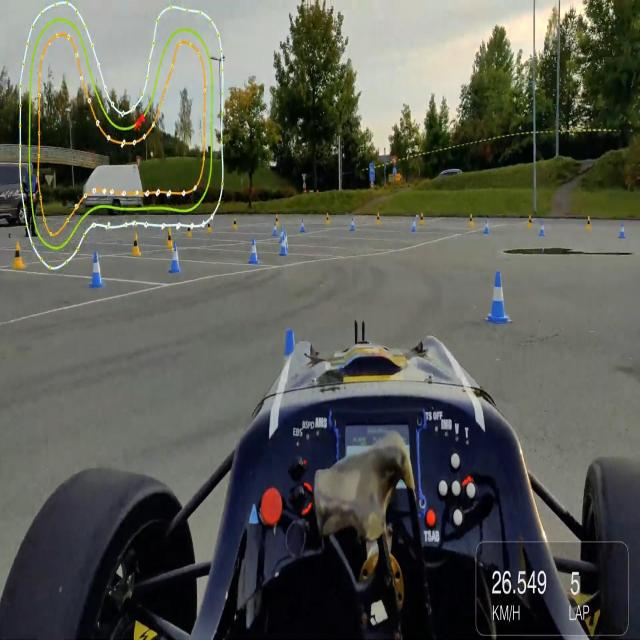blue_cone: (483, 267, 513, 325), (90, 251, 105, 290), (248, 235, 262, 266), (282, 326, 295, 359), (171, 242, 181, 273), (616, 220, 628, 240), (281, 235, 288, 258), (538, 218, 546, 238), (483, 218, 490, 234), (300, 216, 306, 233), (284, 230, 289, 249), (411, 217, 417, 232), (350, 217, 356, 231), (280, 226, 284, 242), (273, 224, 277, 238)
yellow_cone: (12, 239, 26, 273), (132, 232, 143, 258), (166, 227, 173, 247), (585, 216, 592, 232), (527, 214, 533, 229), (376, 212, 382, 225), (419, 212, 425, 225), (274, 213, 279, 228), (232, 217, 238, 229), (325, 213, 330, 226), (468, 214, 473, 227), (186, 228, 192, 238), (207, 222, 212, 233)
